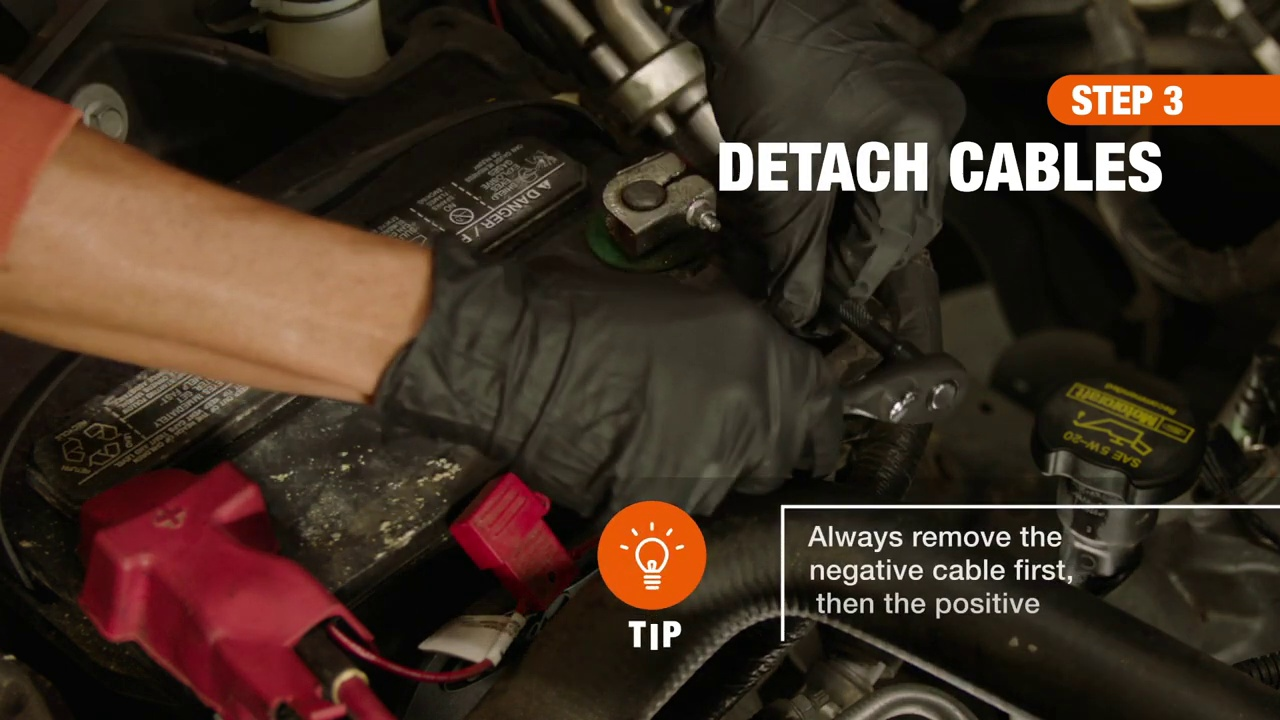battery: (34, 98, 758, 652)
neg_connected: (560, 122, 708, 266)
neg_touched: (593, 124, 916, 388)
pos_connected: (50, 441, 312, 661)
